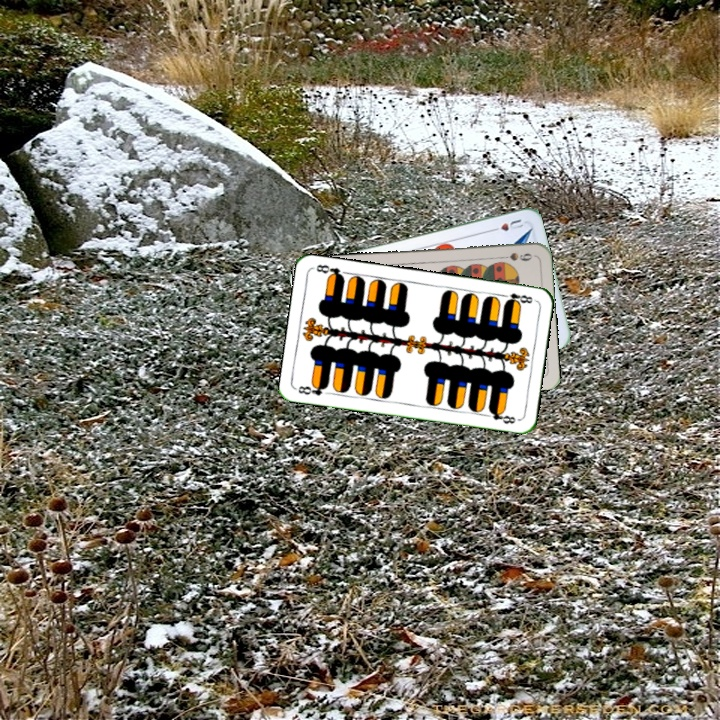E8: (497, 289, 537, 307), (294, 380, 334, 398)
HU: (486, 215, 527, 234)
S9: (495, 248, 534, 264)
